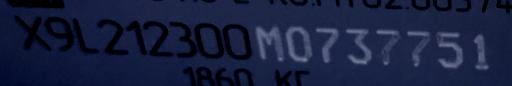letter: (12, 12, 52, 52), (372, 26, 404, 69), (192, 20, 226, 60), (344, 23, 376, 64), (96, 17, 130, 55), (253, 22, 285, 62), (434, 30, 466, 70), (43, 13, 75, 51), (142, 20, 174, 58), (406, 25, 432, 70), (72, 14, 102, 52), (222, 21, 252, 59), (284, 24, 314, 62), (168, 19, 196, 58), (314, 25, 340, 65), (124, 17, 148, 55), (471, 30, 491, 72)
